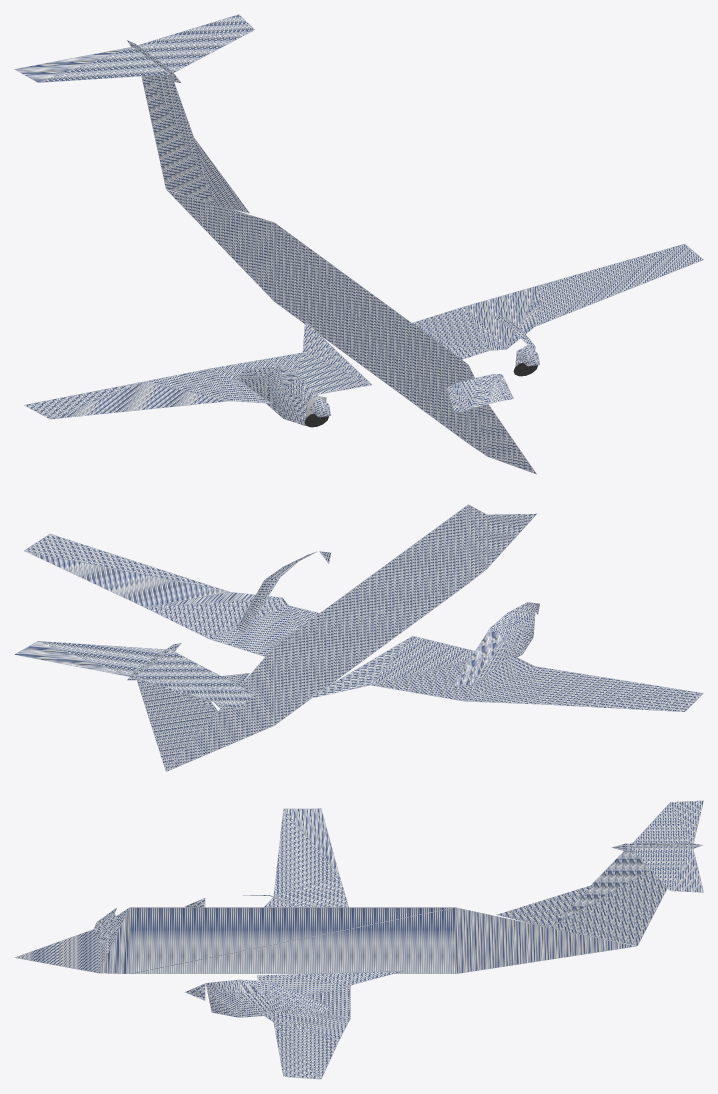
The model's file is HTAI Beechcraft 1900C MSFS_LOD1.gltf.
The picture shows the model from 3 angles, top to bottom: view 1: azimuth 30°, elevation 25°; view 2: azimuth 150°, elevation 25°; view 3: azimuth 270°, elevation 25°; orthographic projection. The views are drawn at different scales.
Visible parts, largest first — view 1: node3; view 2: node3; view 3: node3.
Boxes of the visible parts, bbox=[...] form: node3: bbox=[14, 14, 703, 474]; node3: bbox=[14, 504, 703, 771]; node3: bbox=[14, 800, 703, 1079].
Size of the model in its own units: 16.53 by 3.74 by 17.79.
